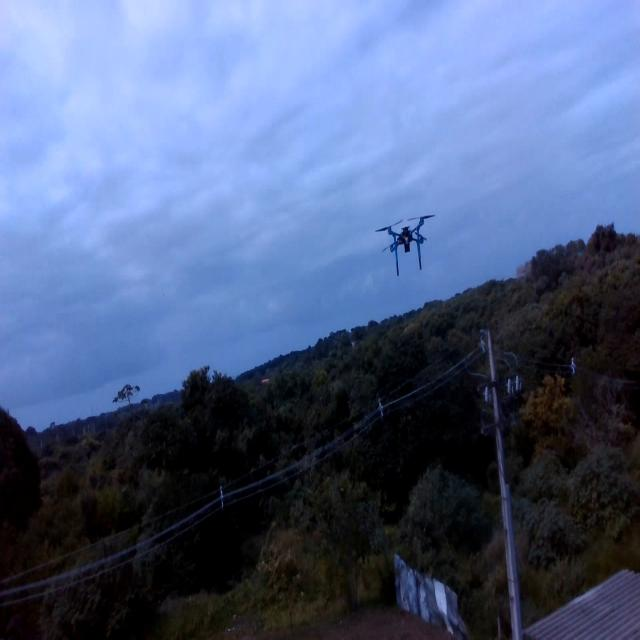-uav-: (367, 203, 442, 282)
